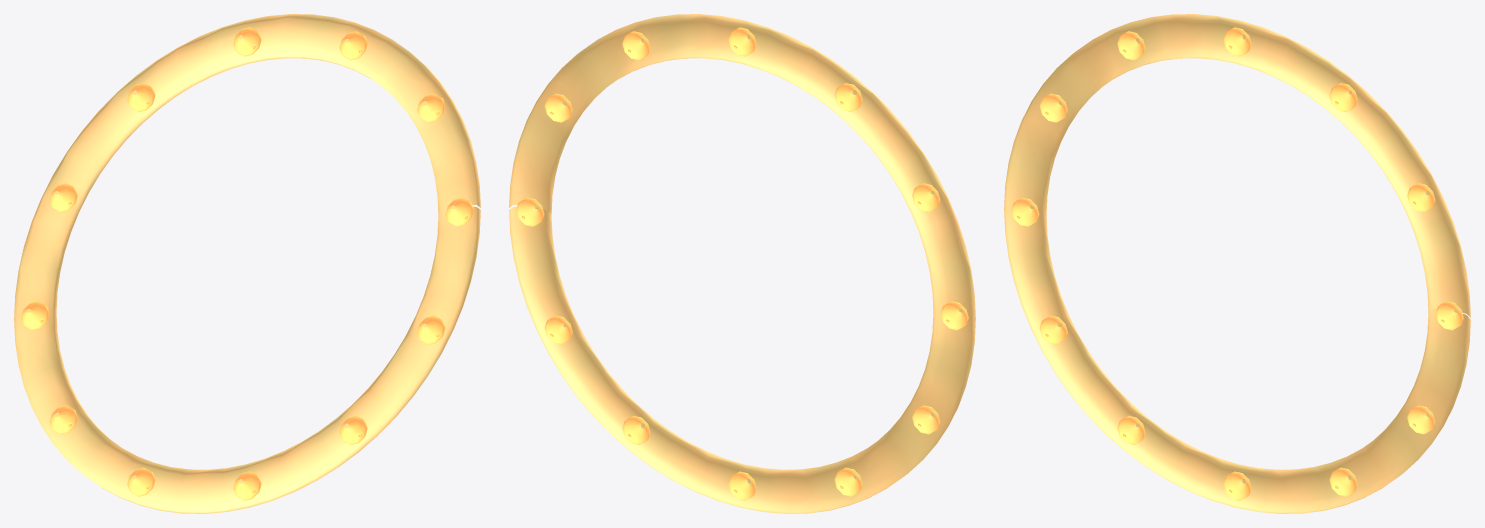
The model's file is occ_ring.glb.
3 views of the same model, side by side, from view 1: azimuth 30°, elevation 25°; view 2: azimuth 150°, elevation 25°; view 3: azimuth 330°, elevation 25° (orthographic).
Visible parts, largest first — view 1: occ_ring; view 2: occ_ring; view 3: occ_ring.
Part boxes in pixels (x1,y1,x2,y2): occ_ring: (14, 14, 480, 513); occ_ring: (509, 14, 975, 513); occ_ring: (1004, 14, 1470, 513).
Bounding box in the file's own units: 2.18 × 2.18 × 0.1188.
